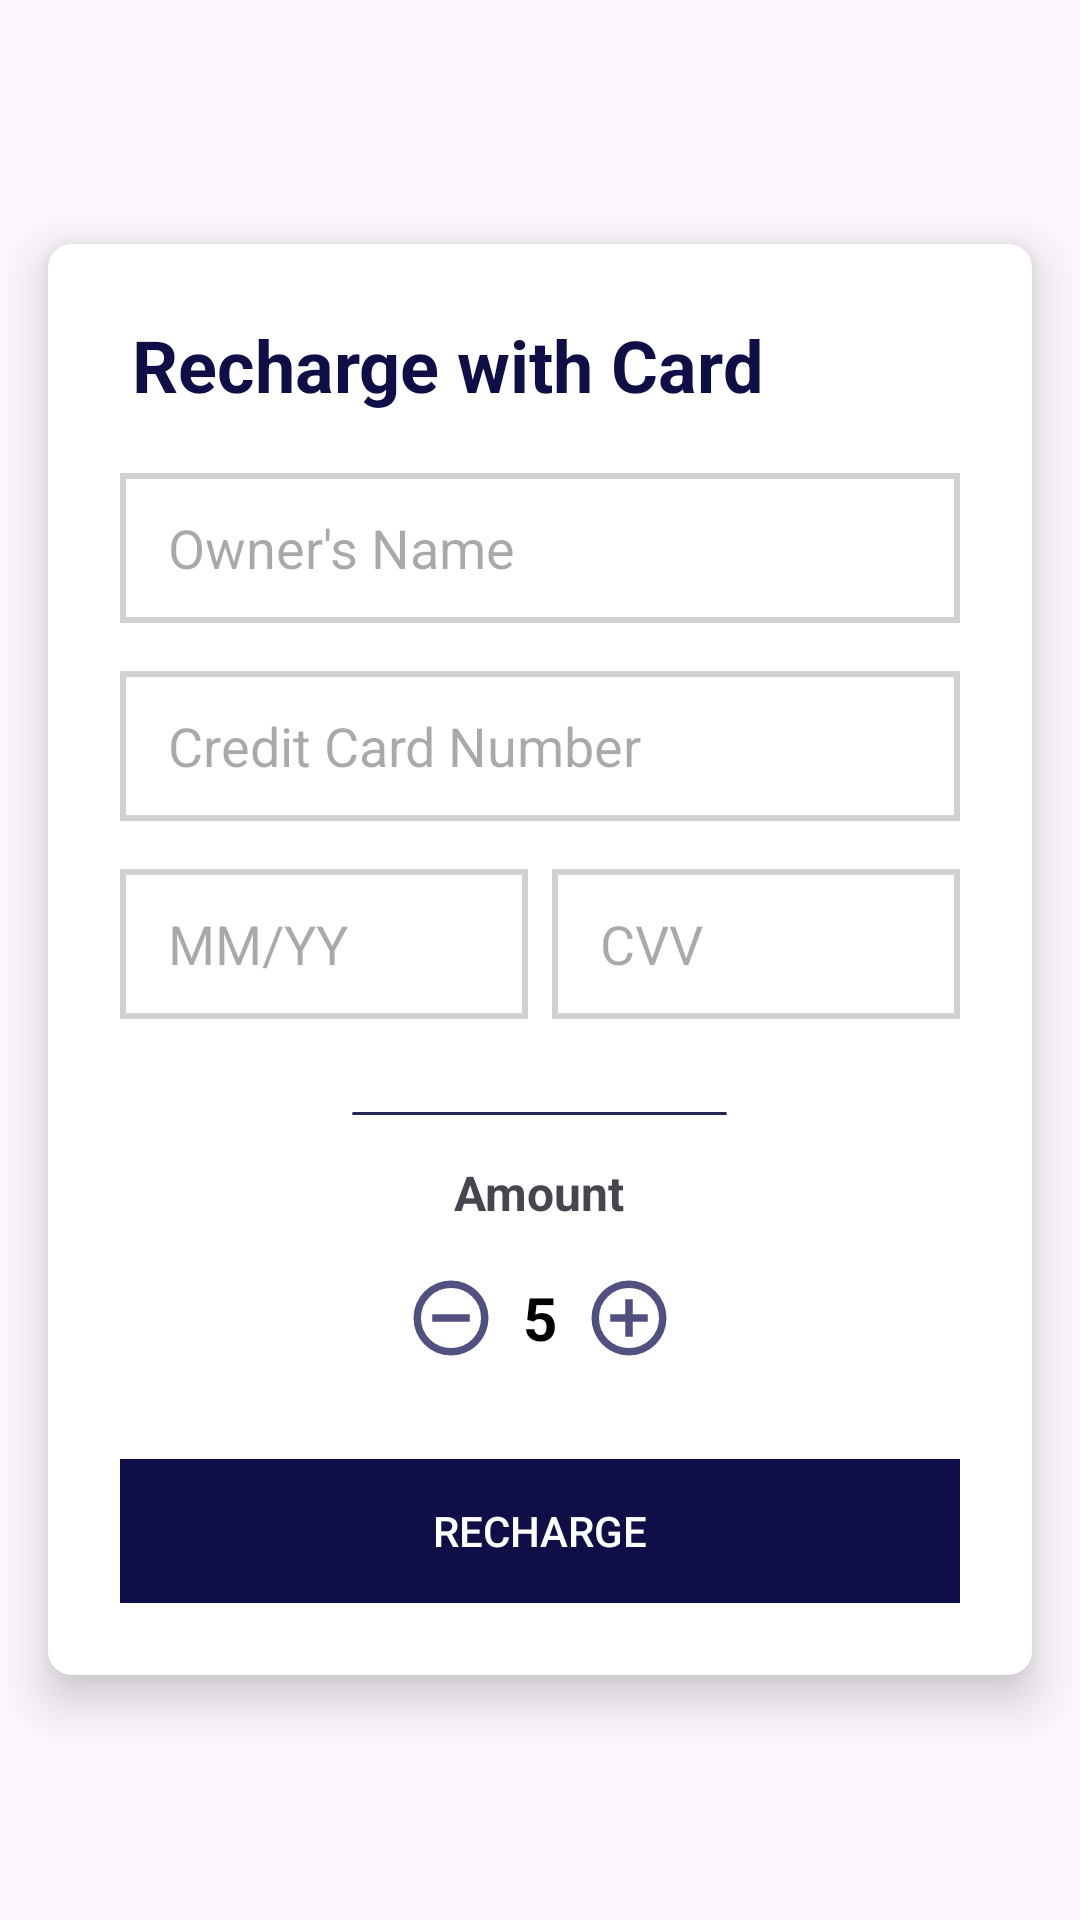

Icons on this 1080*1920 Android screen, each with the point to tap as (x=x, y=y):
minus: (x=451, y=1318)
plus: (x=629, y=1318)
